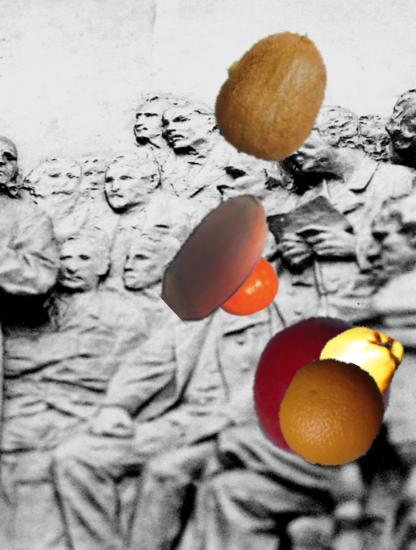Cherry: (245, 313, 387, 455)
Clementine: (211, 252, 279, 320)
Hazelnut: (148, 184, 293, 329)
Kiwi: (206, 24, 346, 164)
Orange: (278, 359, 387, 468)
Quince: (318, 320, 406, 408)
